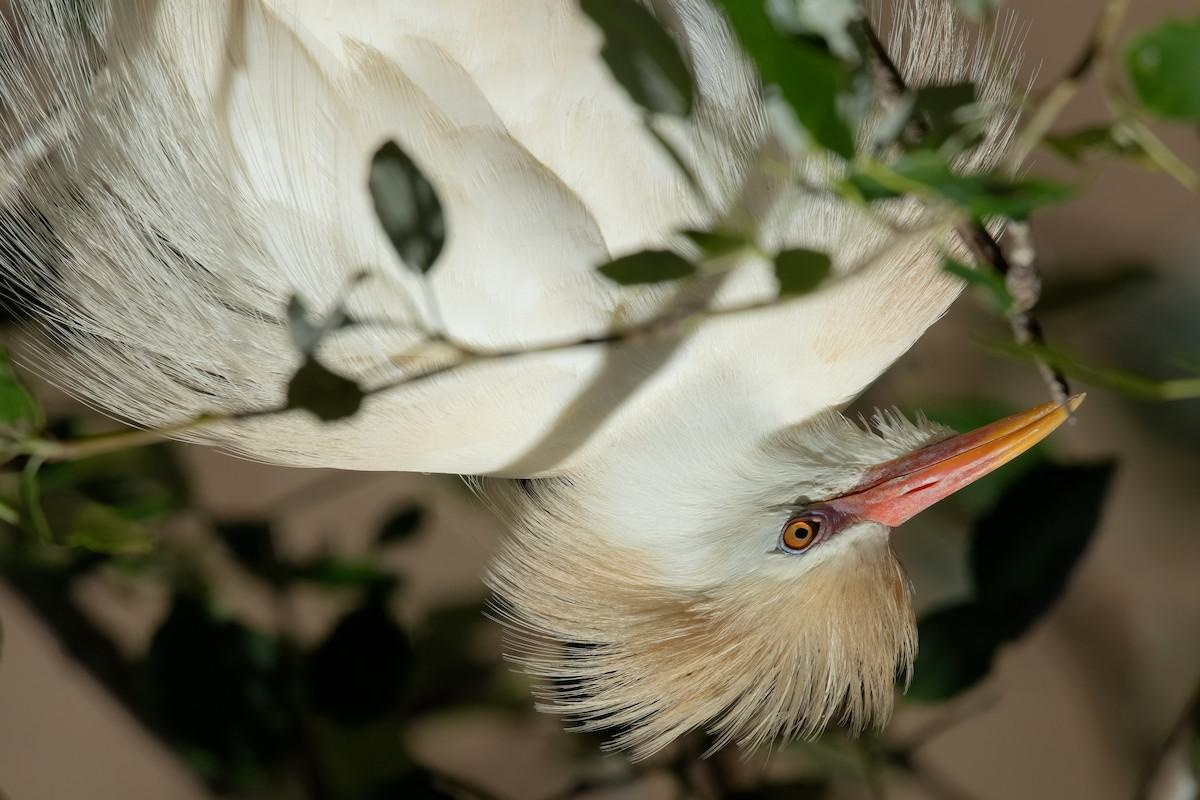egret: (1, 1, 1121, 735)
